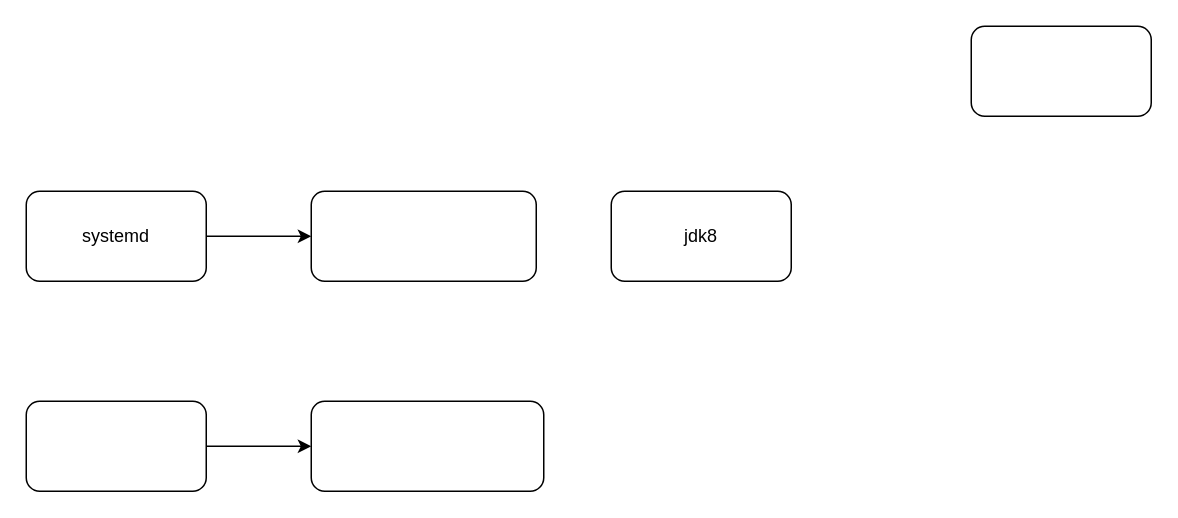
Some shapes in this 1178 by 518 pixel diagram are drawn without their labels. Here are the shapes that lost their labels. From the top down, the centre of each, then its label:
At (x=423, y=235): "weidian-base-systemd".
At (x=427, y=445): "weidian-base-centos7".
